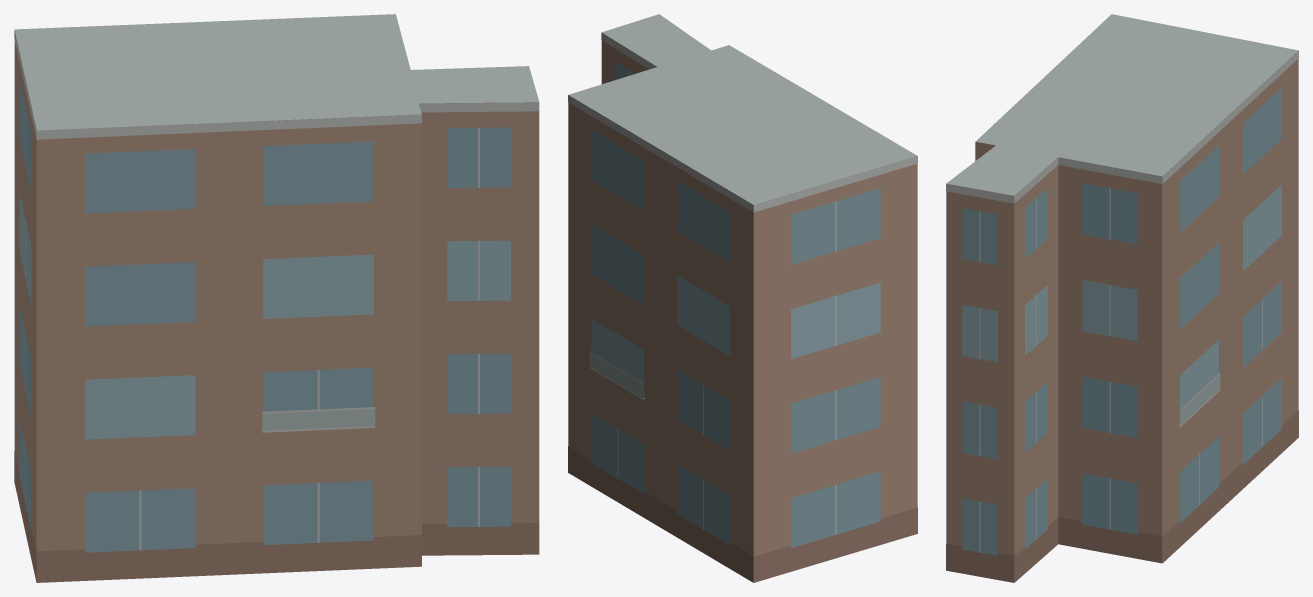
Rendered from survey-upis-33043521.glb.
3 renders of one model, left to right at view 1: azimuth 30°, elevation 25°; view 2: azimuth 150°, elevation 25°; view 3: azimuth 270°, elevation 25°, orthographic. The views are drawn at different scales.
Visible parts, largest first — view 1: survey-upis-33043521.tmp; view 2: survey-upis-33043521.tmp; view 3: survey-upis-33043521.tmp.
Boxes of the visible parts, x1,y1,x2,y2 form: survey-upis-33043521.tmp: (14,14,539,582); survey-upis-33043521.tmp: (568,14,917,582); survey-upis-33043521.tmp: (946,14,1298,582).
Size of the model in its own units: 12.3 by 12.2 by 10.08.
